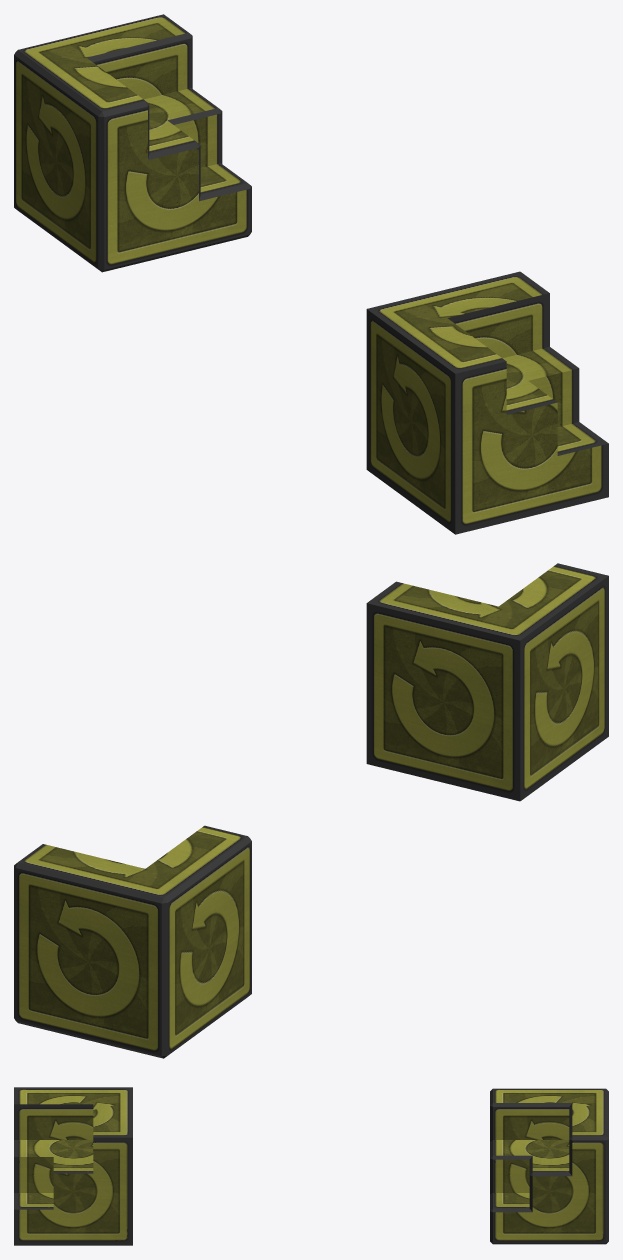
File: step3.insideCorner.fbx
3 renders of one model, top to bottom at view 1: azimuth 30°, elevation 25°; view 2: azimuth 150°, elevation 25°; view 3: azimuth 270°, elevation 25°, orthographic. The views are drawn at different scales.
Visible parts, largest first — view 1: MESH step3.insideCorner, MESH step3.insideCorner.c; view 2: MESH step3.insideCorner, MESH step3.insideCorner.c; view 3: MESH step3.insideCorner, MESH step3.insideCorner.c.
Part boxes in pixels (bbox=[...]): MESH step3.insideCorner: bbox=[366, 271, 608, 534]; MESH step3.insideCorner.c: bbox=[14, 14, 251, 272]; MESH step3.insideCorner: bbox=[366, 563, 608, 801]; MESH step3.insideCorner.c: bbox=[14, 825, 251, 1058]; MESH step3.insideCorner: bbox=[14, 1087, 132, 1245]; MESH step3.insideCorner.c: bbox=[490, 1088, 608, 1244].
Size of what is drawn, in the model's own units: 100 by 100 by 500.
